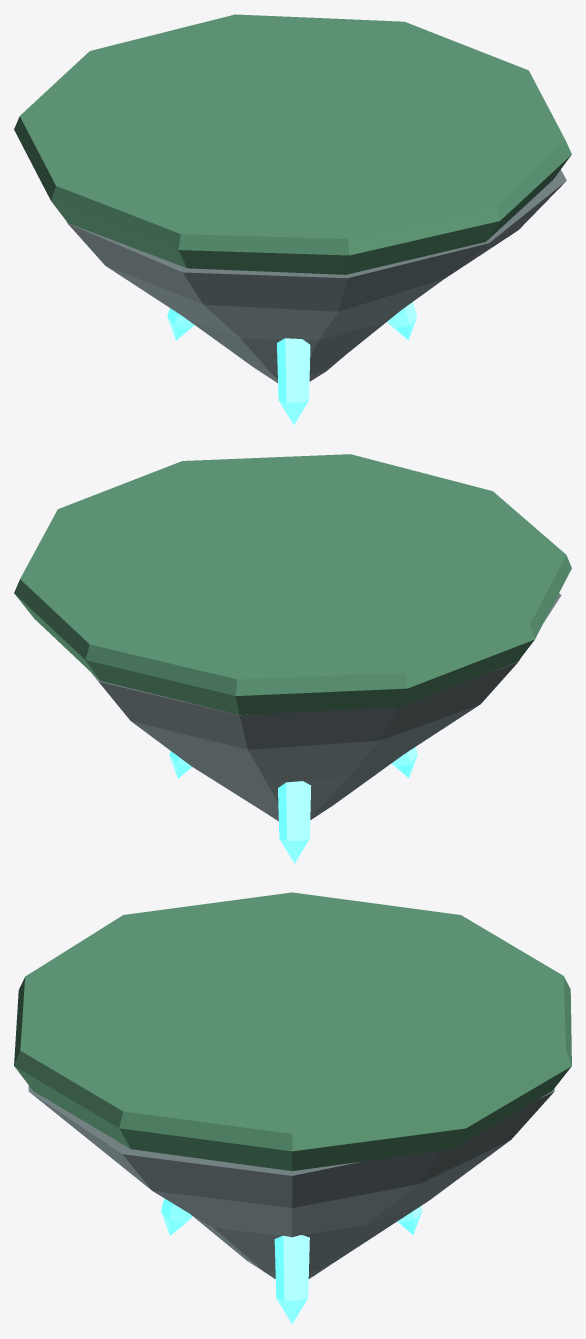
Rendered from cloud_stone.glb.
The picture shows the model from 3 angles, top to bottom: view 1: azimuth 30°, elevation 25°; view 2: azimuth 150°, elevation 25°; view 3: azimuth 270°, elevation 25°; orthographic projection. The views are drawn at different scales.
Visible parts, largest first — view 1: CloudStone; view 2: CloudStone; view 3: CloudStone.
Part boxes in pixels (x1,y1,x2,y2): CloudStone: [14, 14, 571, 424]; CloudStone: [14, 454, 571, 863]; CloudStone: [14, 892, 571, 1324].
Bounding box in the file's own units: 4.4 × 2.3 × 4.2.
